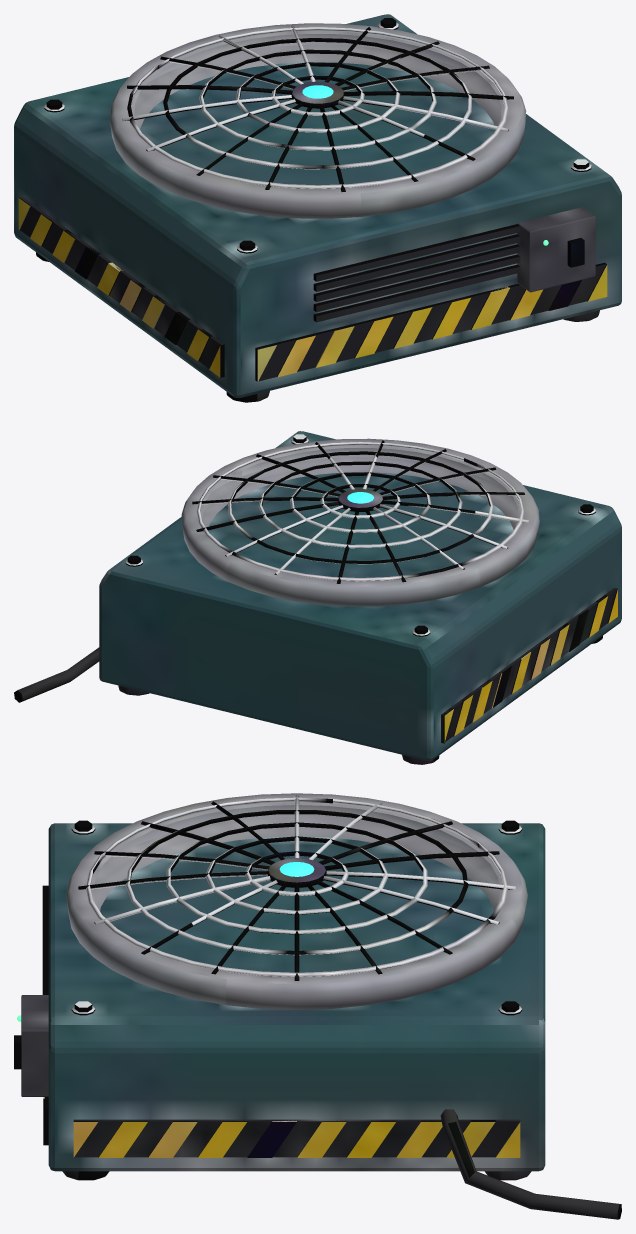
Rendered from air_fan.glb.
3 views of the same model, one above another, from view 1: azimuth 30°, elevation 25°; view 2: azimuth 150°, elevation 25°; view 3: azimuth 270°, elevation 25° (orthographic). The views are drawn at different scales.
Parts seen in each view (by area): view 1: body; view 2: body; view 3: body.
Boxes of the visible parts, x1,y1,x2,y2 form: body: (14,14,621,402); body: (14,431,621,764); body: (14,793,621,1219).
Bounding box in the file's own units: 2.35 × 0.9515 × 2.45.
3 materials, 1 textured.
